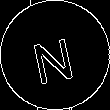N_N: (30, 26, 80, 84)
